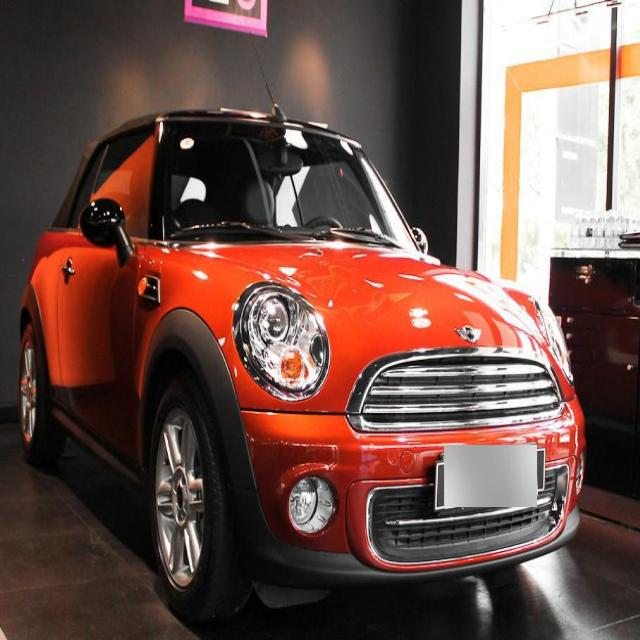front_bumper: (226, 394, 589, 584)
front_glass: (150, 112, 427, 248)
front_left_side_light: (534, 294, 574, 382)
front_left_side_mirror: (412, 224, 428, 254)
front_right_side_door: (62, 117, 159, 486)
front_right_side_light: (233, 277, 332, 405)
front_right_side_mirror: (78, 193, 133, 269)
wheel: (148, 383, 259, 637), (16, 321, 54, 457)
